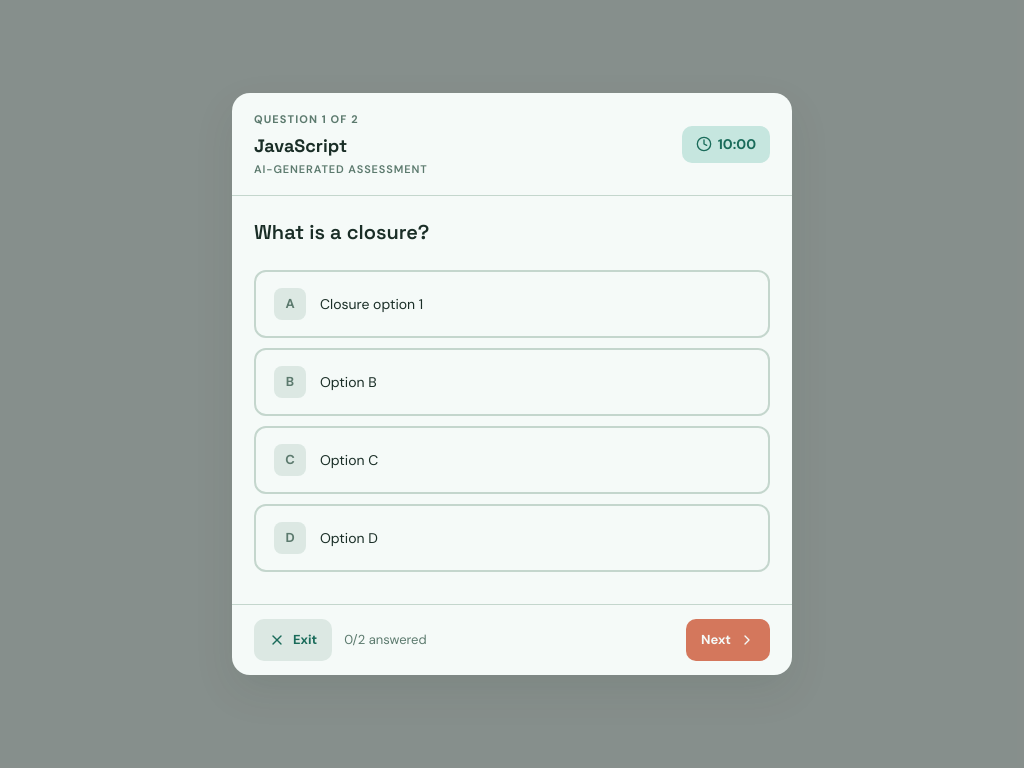
Test: AssessmentModal › selects an answer and advances to the next question
Check: the text "What is a closure?" is shown, box [254,219,429,245]
Click the text "Option B" at coordinates (348, 382), box [320,372,377,392]
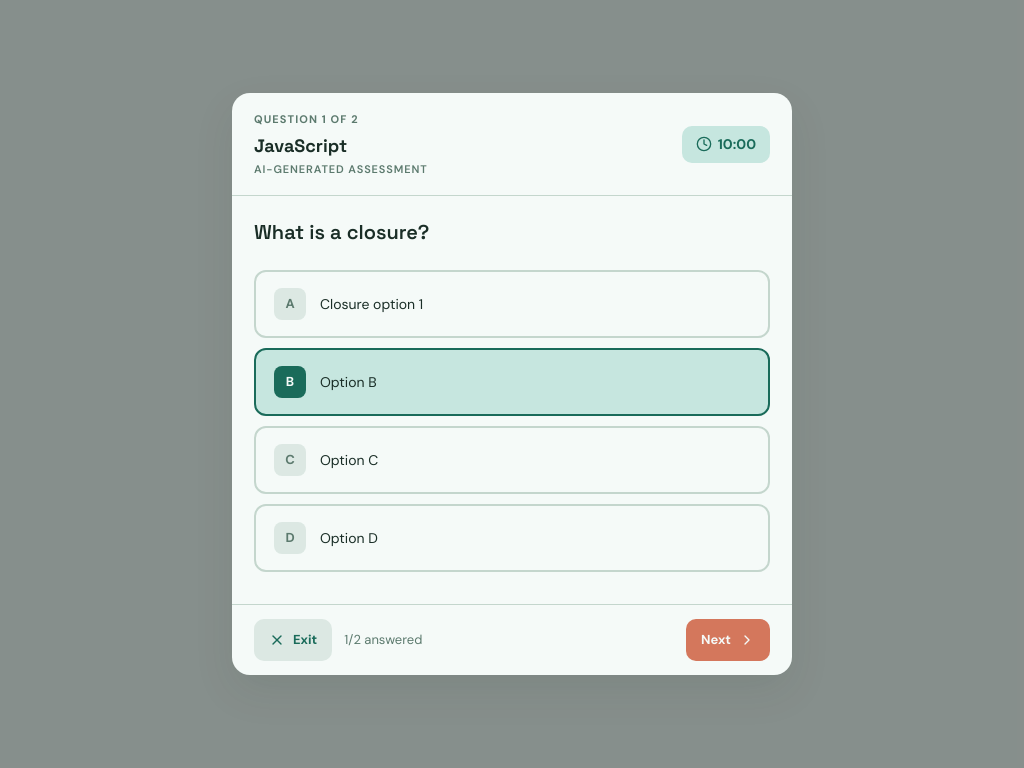
Click the button "Next" at coordinates (728, 640), box [686,619,770,661]
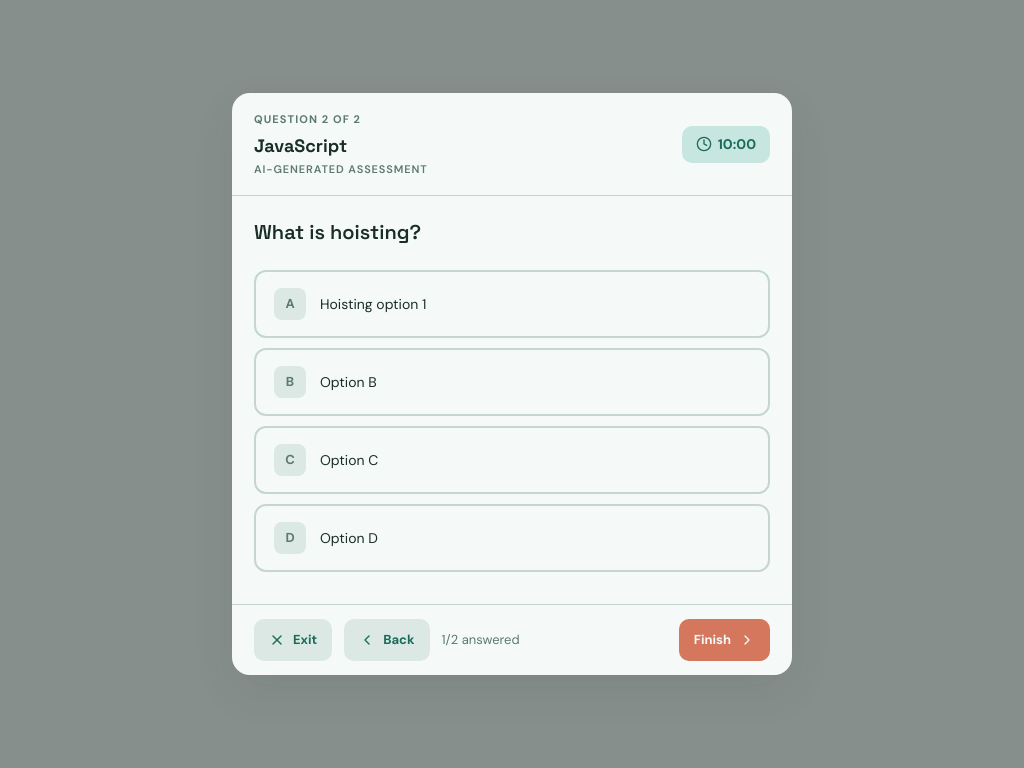
Check: the text "1/2 answered" is shown, box [442,630,520,650]
Check: the text "Question 2 of 2" is shown, box [254,112,361,126]
Check: the text "What is hoisting?" is shown, box [254,219,421,245]
